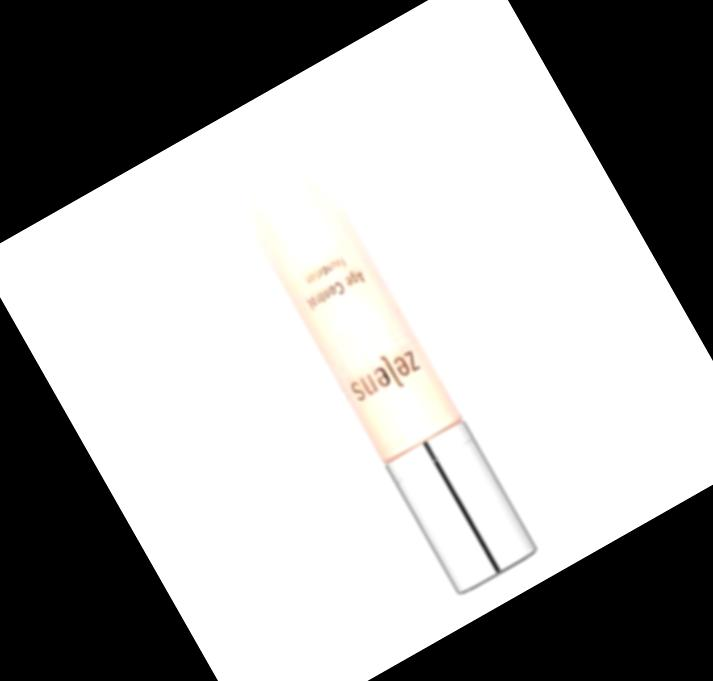cosmetic: (201, 102, 541, 600)
